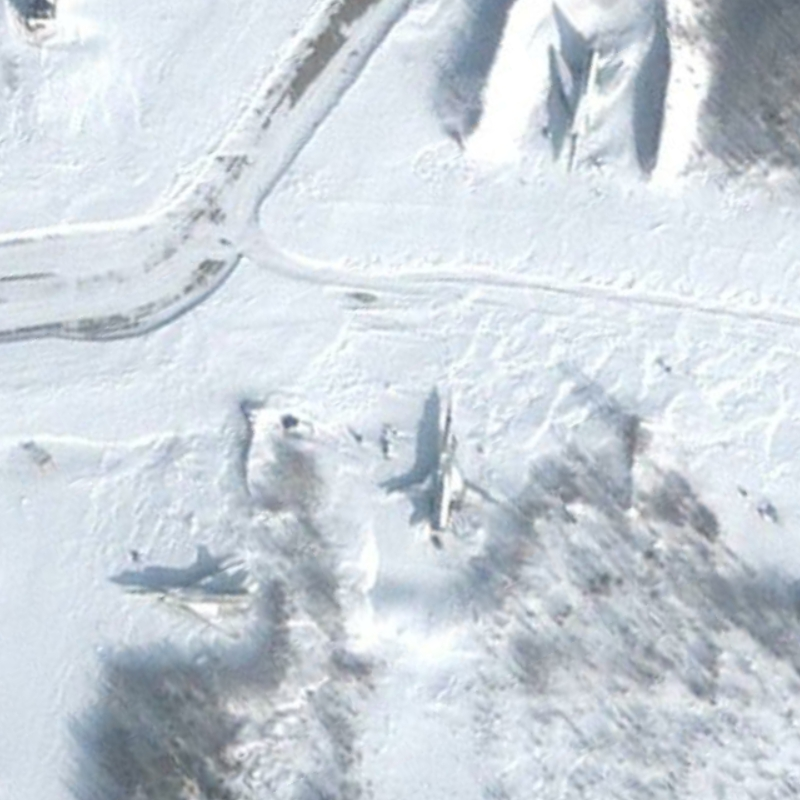A12: (382, 399, 508, 541), (120, 554, 263, 643), (543, 39, 635, 177)
